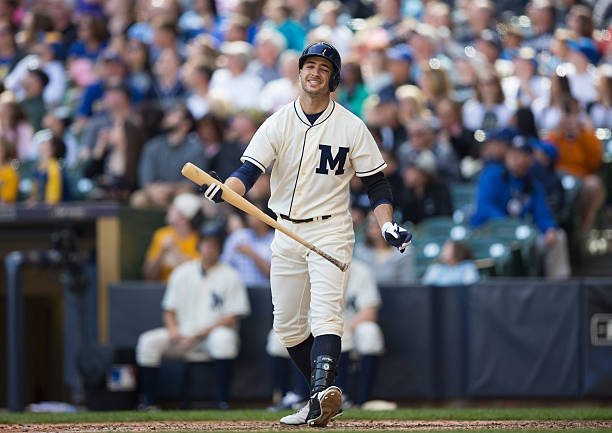bita: (180, 162, 347, 273)
